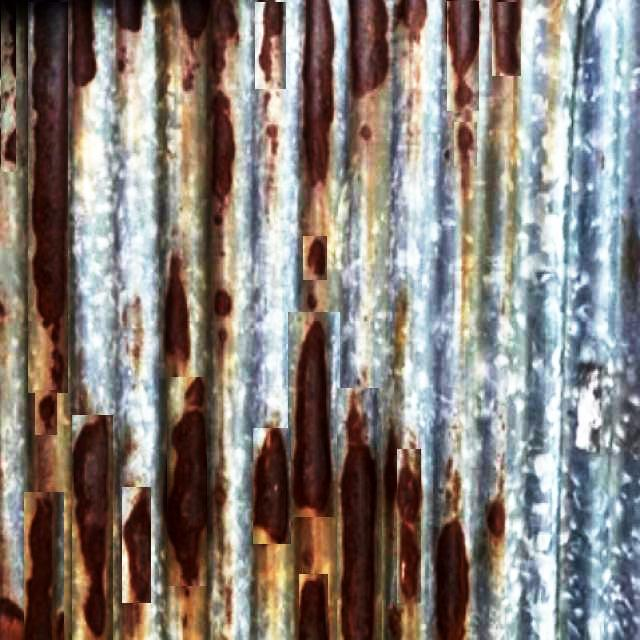Corrosion: (28, 0, 67, 402), (71, 416, 112, 640), (167, 379, 207, 587), (294, 321, 332, 516), (342, 445, 376, 640), (24, 494, 64, 640), (304, 0, 334, 184), (254, 429, 289, 544), (397, 450, 422, 602), (438, 521, 469, 640), (448, 0, 480, 112), (351, 0, 388, 95), (121, 488, 150, 605), (165, 255, 190, 376), (255, 0, 286, 88), (212, 92, 235, 202), (211, 0, 238, 82), (493, 0, 522, 76), (72, 0, 96, 85), (299, 581, 329, 640), (401, 522, 421, 600), (398, 0, 427, 40), (303, 236, 328, 280), (182, 0, 209, 37), (116, 0, 142, 30), (214, 290, 232, 316)
